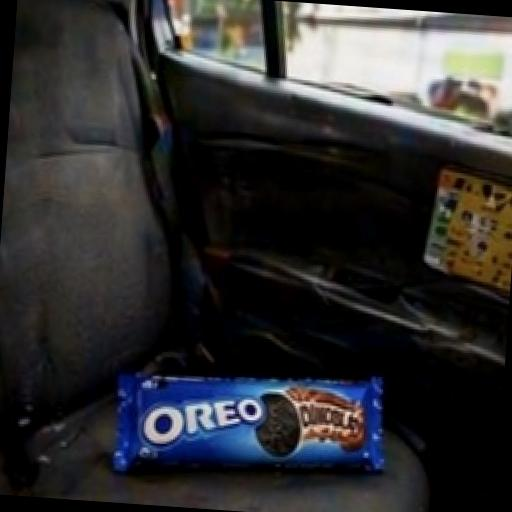oreo: (82, 314, 426, 512)
